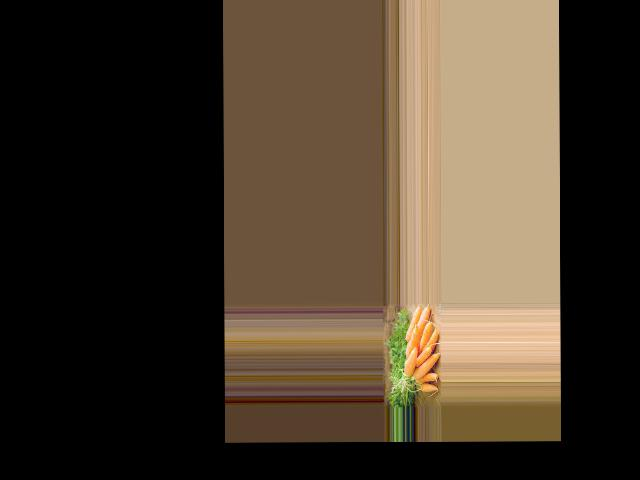carrot: (410, 352, 439, 382)
